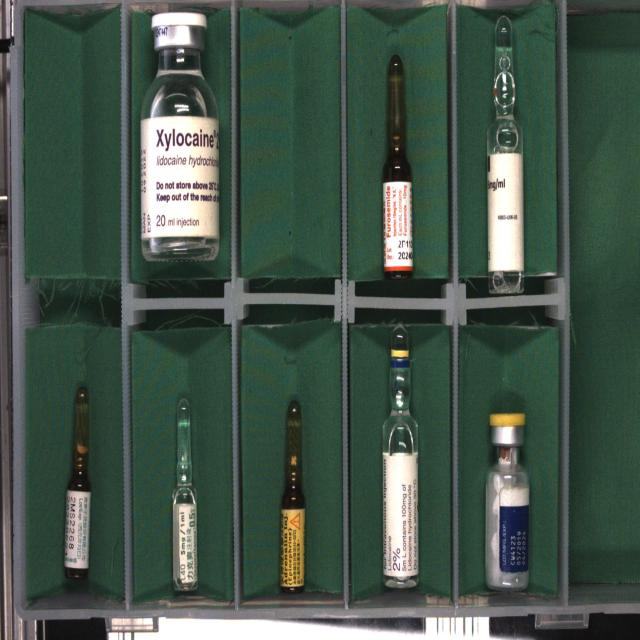Vials: (140, 12, 219, 261), (486, 413, 529, 590), (506, 427, 513, 431)
